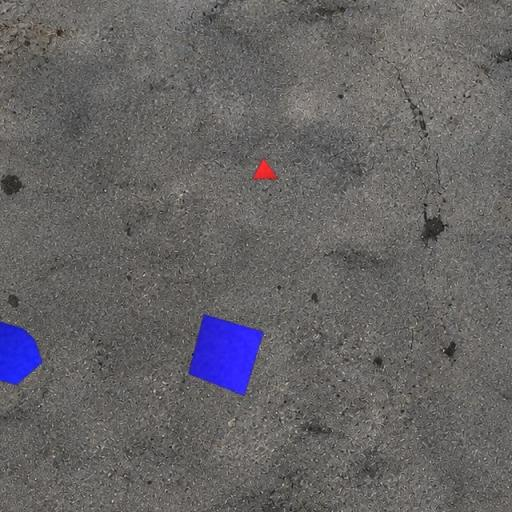BLUE_SQUARE: (188, 314, 265, 396)
